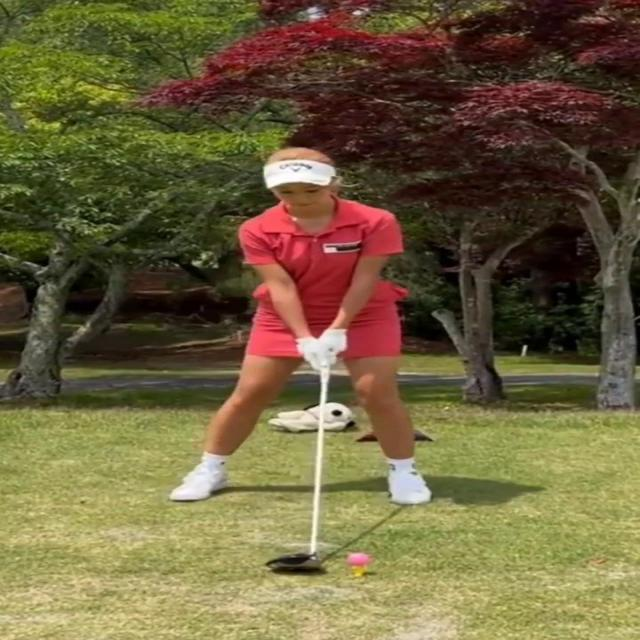ClubHandle: (266, 369, 332, 570)
ClubHead: (266, 553, 323, 570)
GolfBall: (348, 554, 371, 567)
